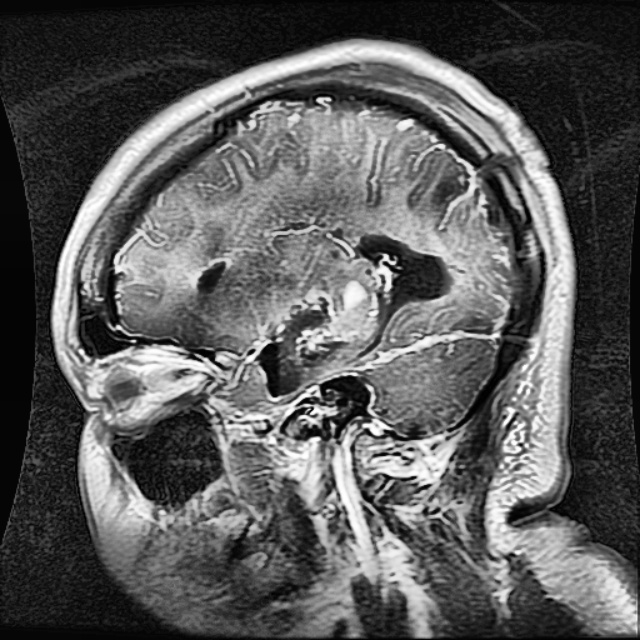Meningioma: (353, 233, 454, 354)
